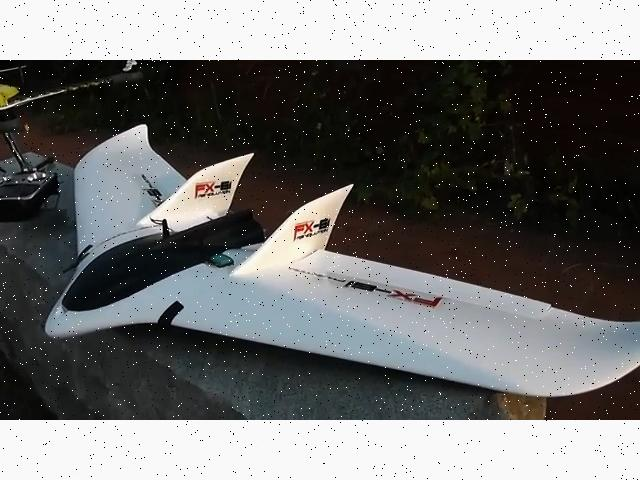Anti-Drone: (38, 116, 640, 419)
